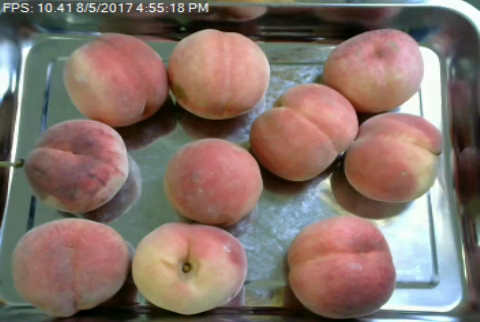Peach: (10, 217, 128, 316), (285, 215, 397, 319), (249, 82, 358, 182), (134, 222, 246, 316), (25, 118, 130, 213), (64, 32, 168, 127), (168, 26, 270, 120), (319, 25, 424, 115), (340, 113, 443, 204), (163, 138, 263, 225)
